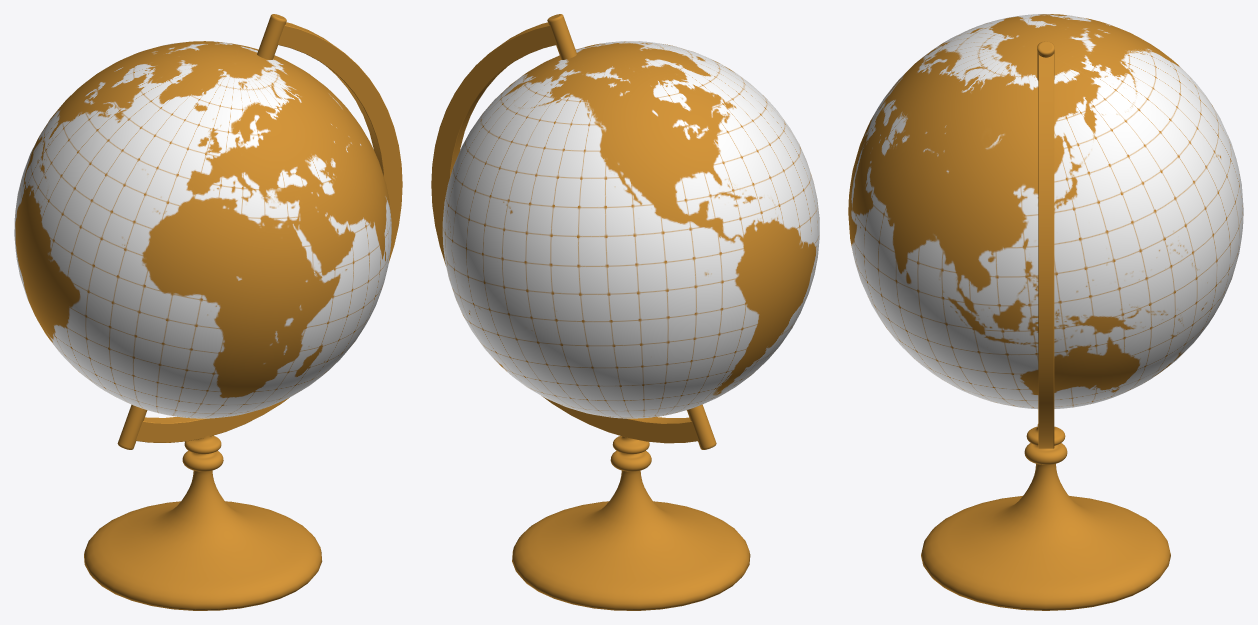
Rendered from golden_globe_decoration_draco.glb.
3 renders of one model, left to right at view 1: azimuth 30°, elevation 25°; view 2: azimuth 150°, elevation 25°; view 3: azimuth 270°, elevation 25°, orthographic. The views are drawn at different scales.
Visible parts, largest first — view 1: Globe_2_0, Globe_2, Globe_3_3, Globe_1_1; view 2: Globe_2_0, Globe_2, Globe_3_3, Globe_1_1; view 3: Globe_2_0, Globe_2, Globe_3_3.
Boxes of the visible parts, x1,y1,x2,y2 form: Globe_2_0: (14,41,391,418); Globe_2: (84,435,322,610); Globe_3_3: (136,22,402,442); Globe_1_1: (117,14,286,449); Globe_2_0: (442,41,819,418); Globe_2: (512,436,750,610); Globe_3_3: (431,22,698,443); Globe_1_1: (547,14,716,449); Globe_2_0: (848,14,1243,409); Globe_2: (921,424,1170,610); Globe_3_3: (1038,54,1054,448).
Size of the model in its own units: 2.2 by 3.12 by 2.
Materials: 1 (1 with a texture image).
